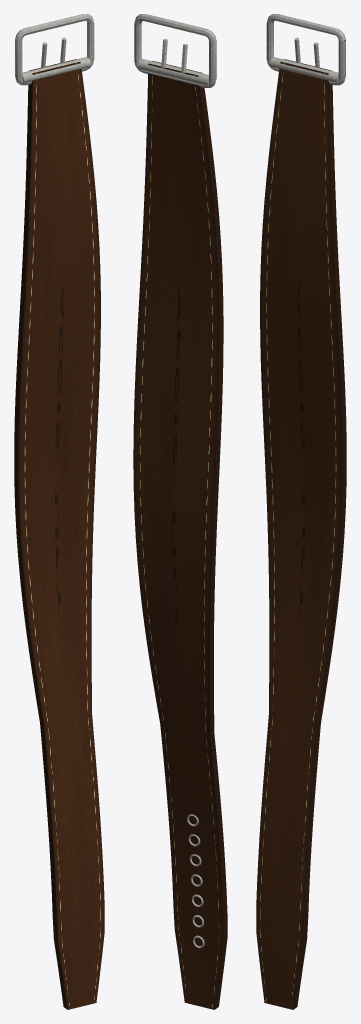
Rendered from weight_belt.glb.
3 views of the same model, side by side, from view 1: azimuth 30°, elevation 25°; view 2: azimuth 150°, elevation 25°; view 3: azimuth 330°, elevation 25° (orthographic). The views are drawn at different scales.
Visible parts, largest first — view 1: WeightBelt_Clean_strap, WeightBelt_Clean_buckle; view 2: WeightBelt_Clean_strap, WeightBelt_Clean_buckle; view 3: WeightBelt_Clean_strap, WeightBelt_Clean_buckle.
Boxes of the visible parts, x1=… form: WeightBelt_Clean_strap: x1=14, y1=59, x2=104, y2=1009; WeightBelt_Clean_buckle: x1=15, y1=14, x2=94, y2=85; WeightBelt_Clean_strap: x1=133, y1=61, x2=227, y2=1009; WeightBelt_Clean_buckle: x1=134, y1=14, x2=216, y2=948; WeightBelt_Clean_strap: x1=256, y1=59, x2=346, y2=1009; WeightBelt_Clean_buckle: x1=266, y1=14, x2=345, y2=85.
Bounding box in the file's own units: 0.1 × 1.15 × 0.0658.
2 materials, 2 textured.
